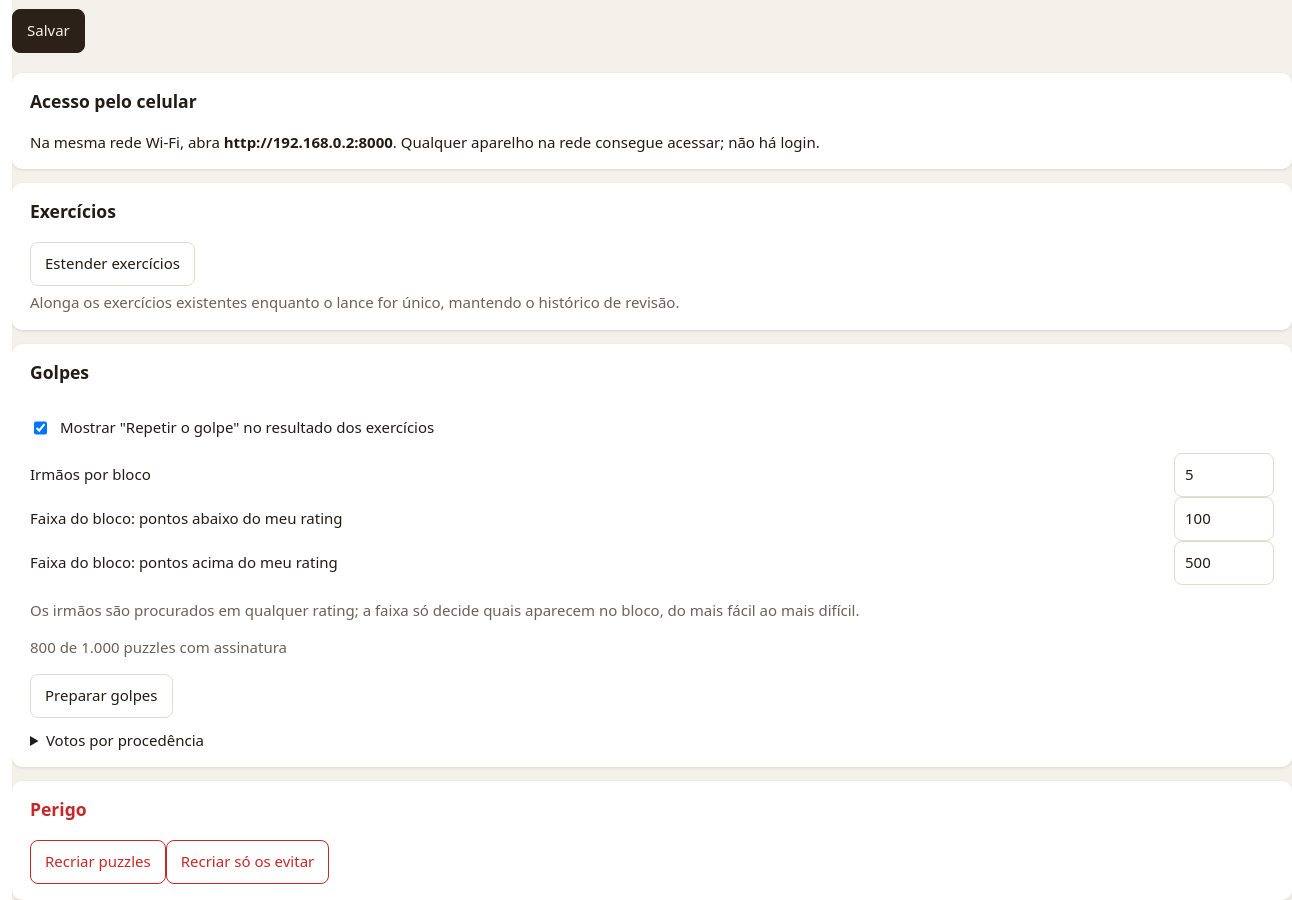
com votos, o placar mostra a tabela por procedência
This screenshot has width=1292, height=900.
(page scrolled)
Click the heading "Votos por procedência". click: (125, 740)
box: [46,730,204,750]
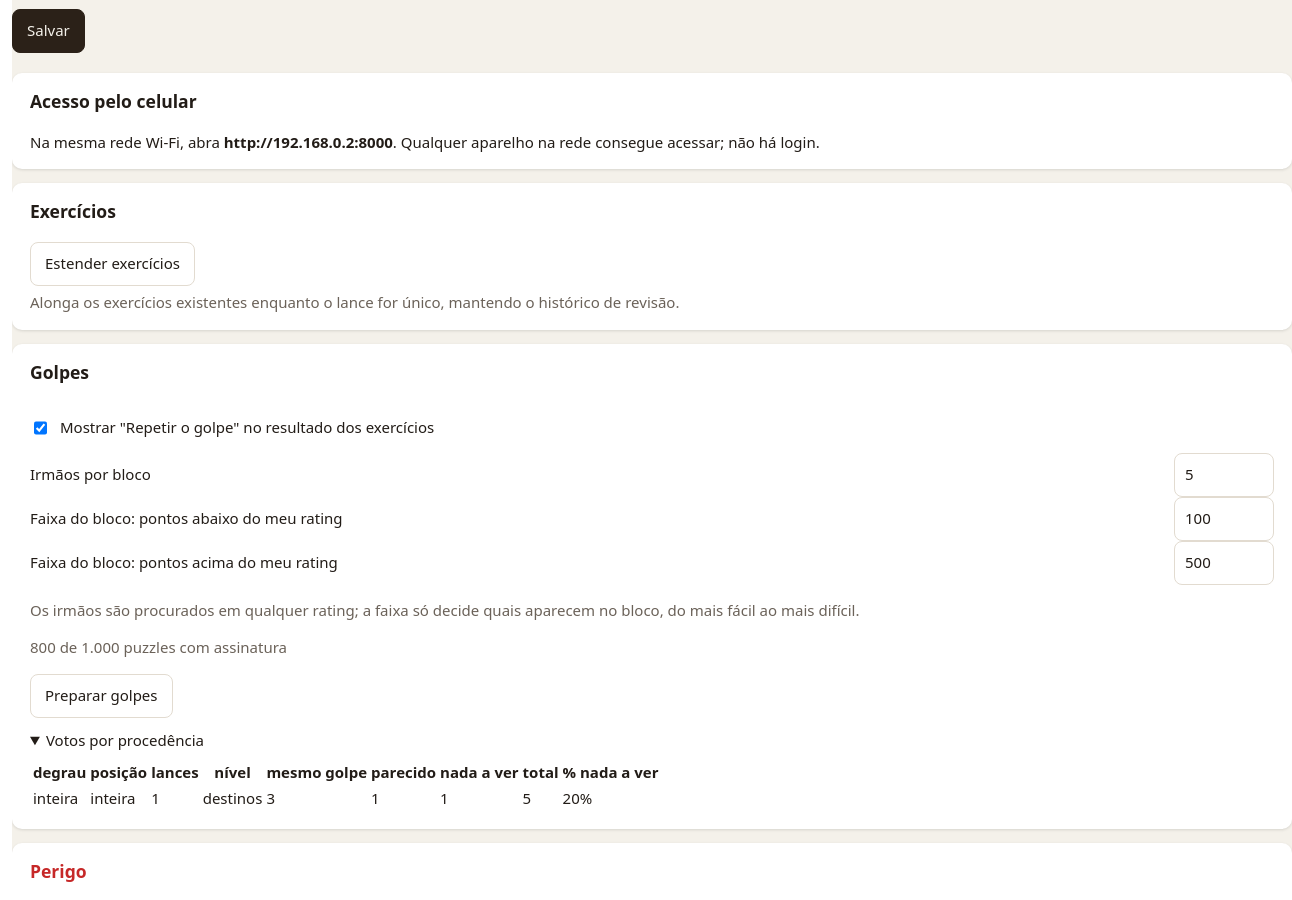
Now the text "inteira" is shown 2 times, box [32,787,87,811]; [89,787,148,811]
Now the text "inteira" is shown, box [33,788,78,808]
Now the text "inteira" shows "destinos", box [203,788,262,808]
